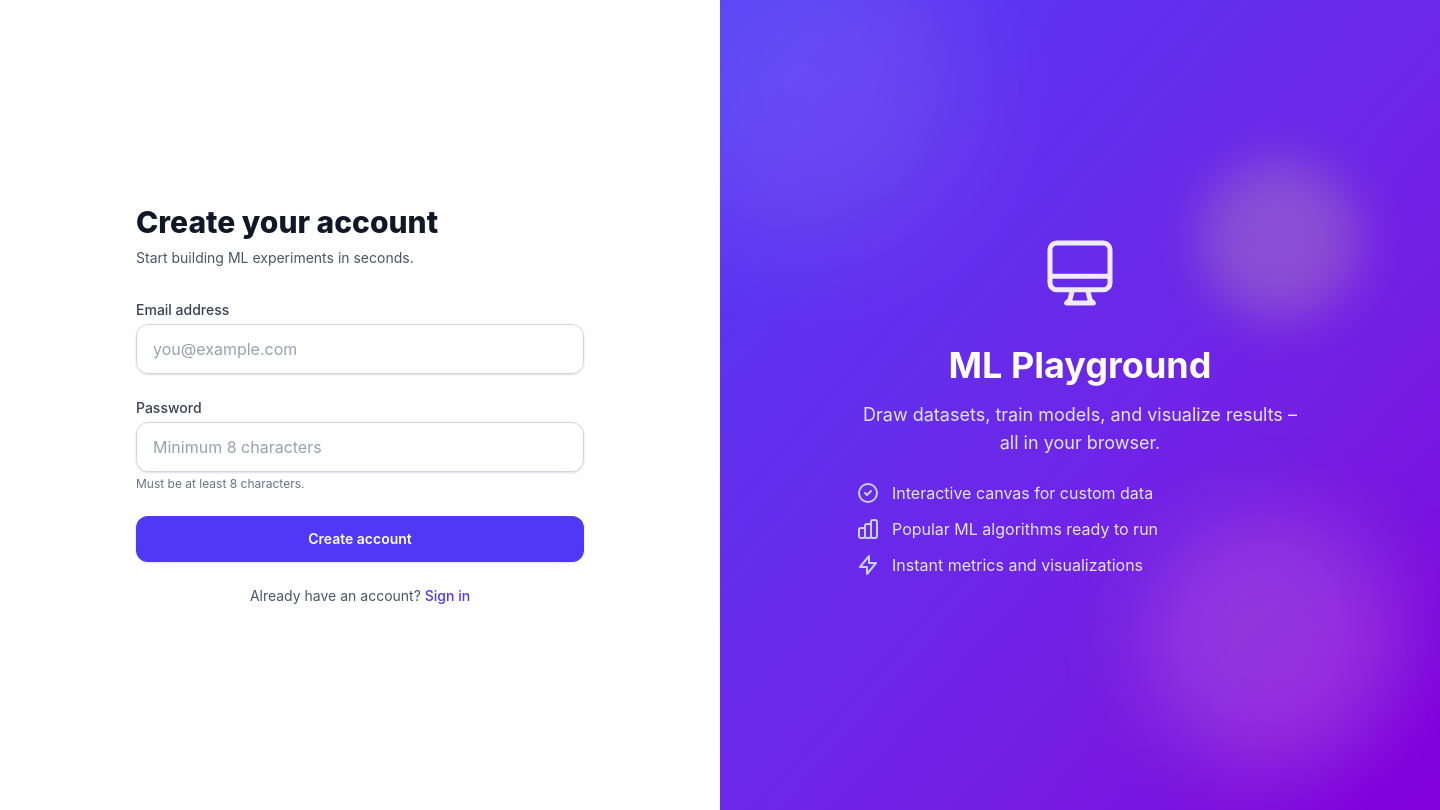
SignupPage › Error Handling › displays error message on signup failure
Type "existing@example.com" into the field labelled "Email address".
click(360, 349); type("existing@example.com")  # box left=136, top=324, right=584, bottom=374
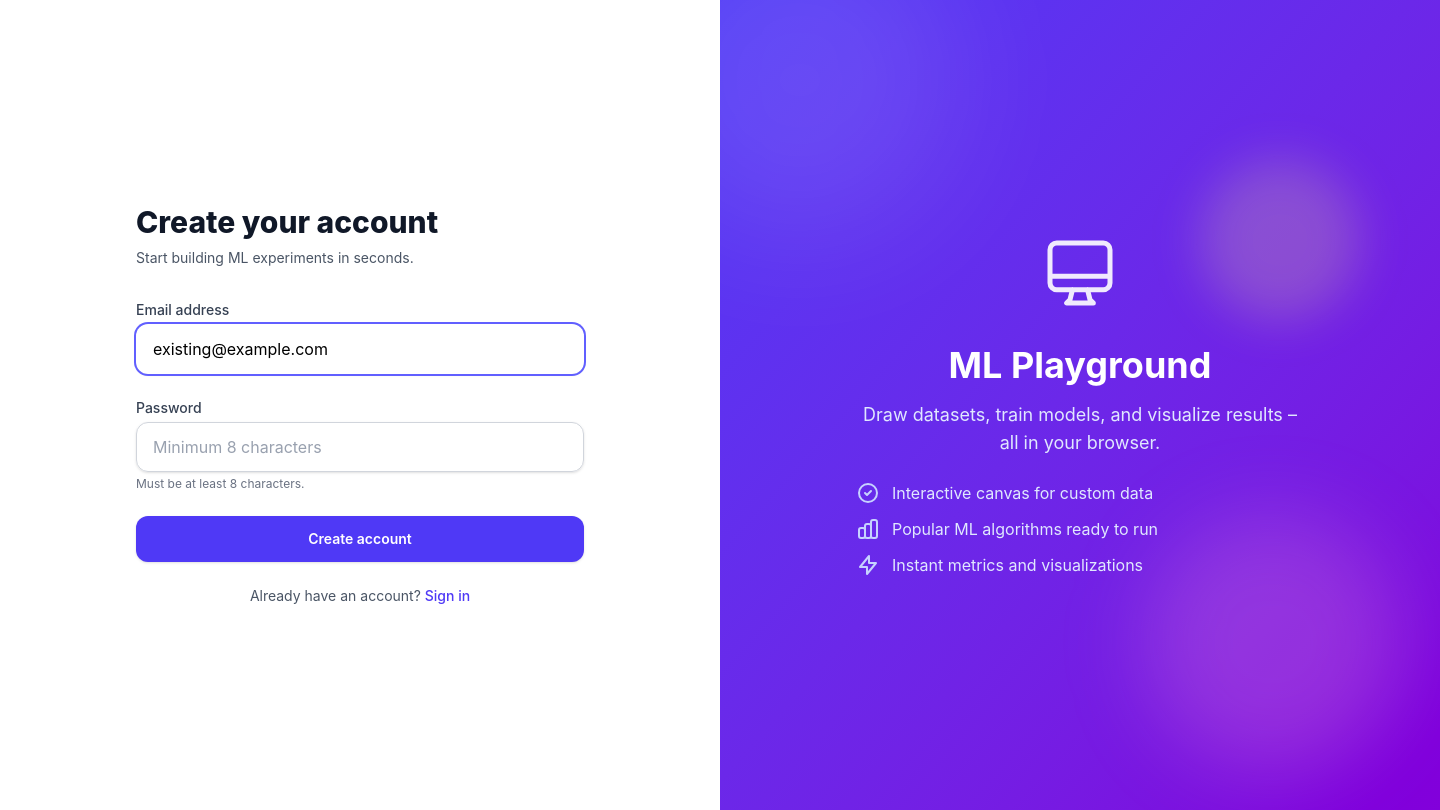
Type "password123" into the password field labelled "Password".
click(360, 447); type("password123")  # box left=136, top=422, right=584, bottom=472
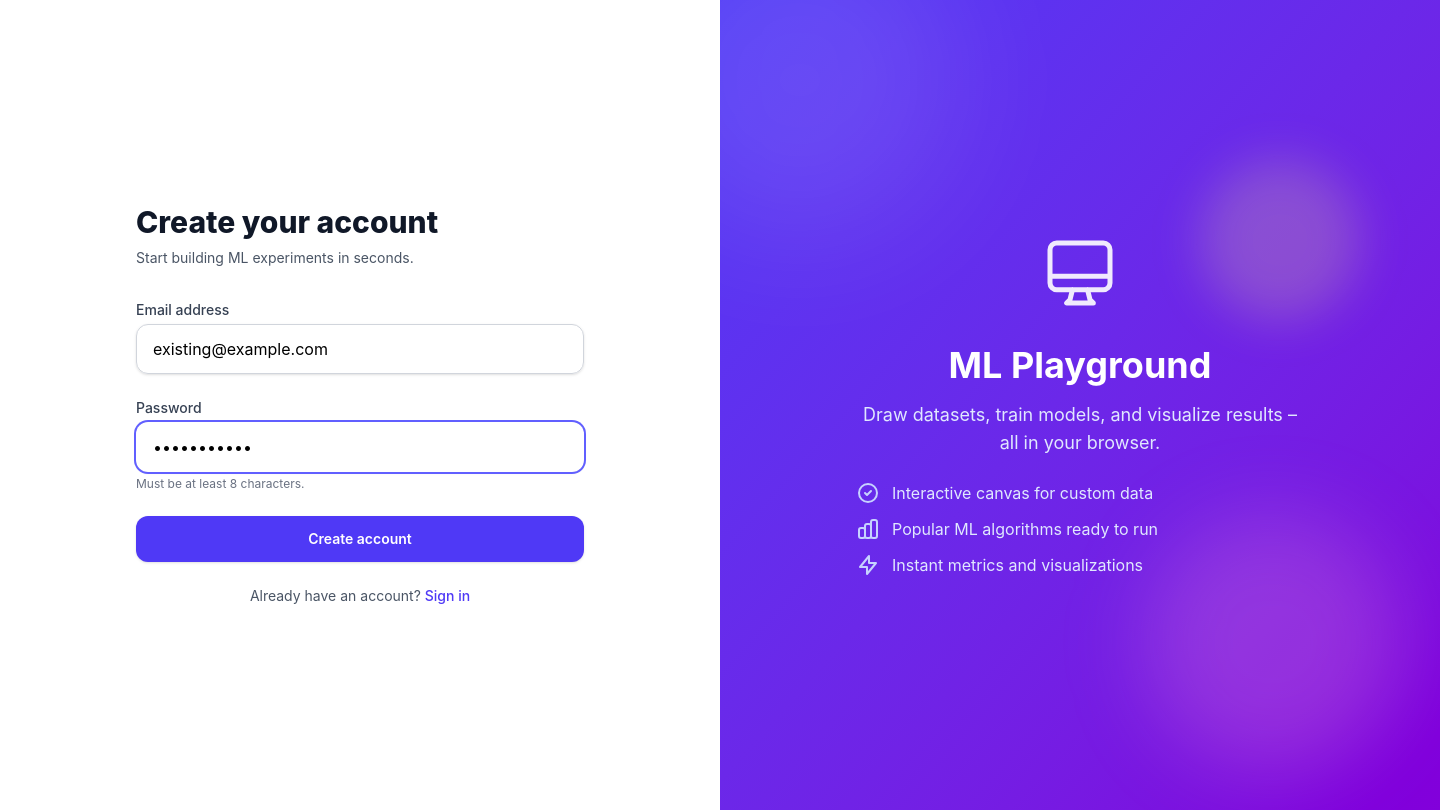
Click the button "Create account".
click(360, 539)  # box left=136, top=516, right=584, bottom=562
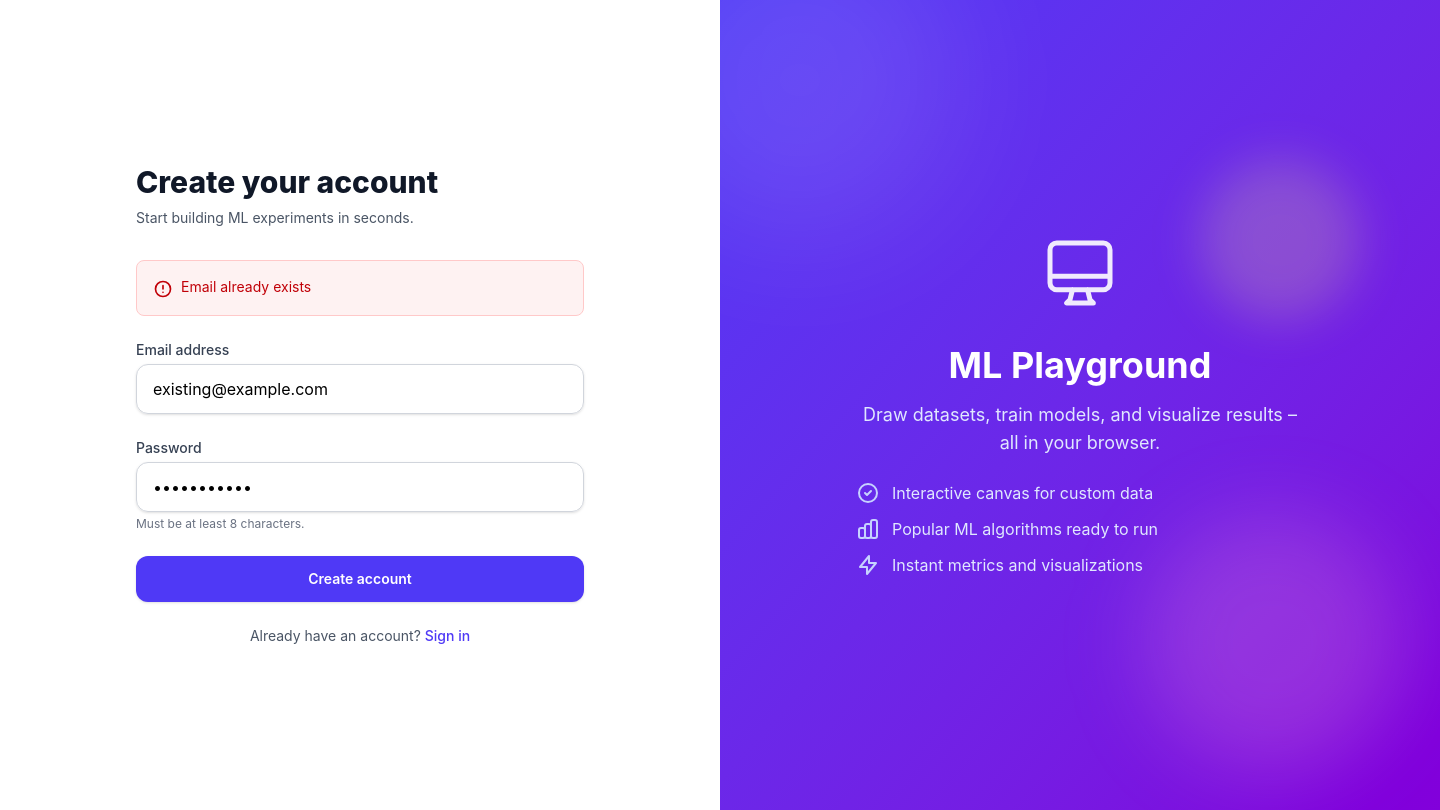
Check: the text "Email already exists" is shown, box left=181, top=277, right=311, bottom=297
